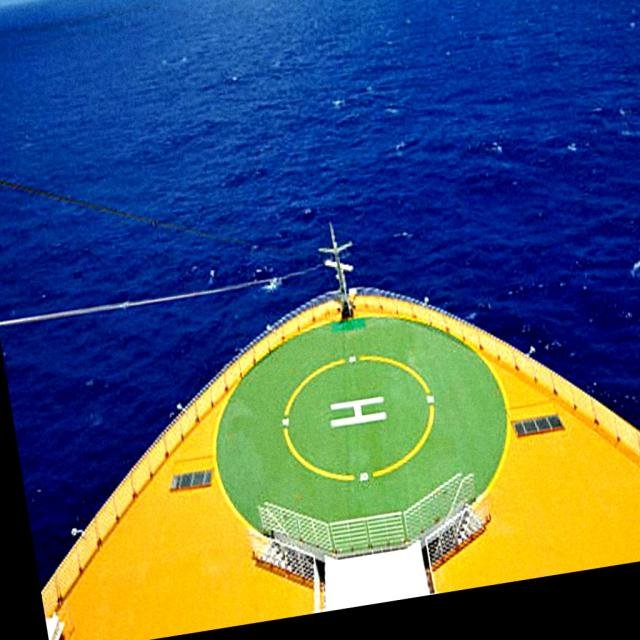helipad: (279, 351, 438, 484)
